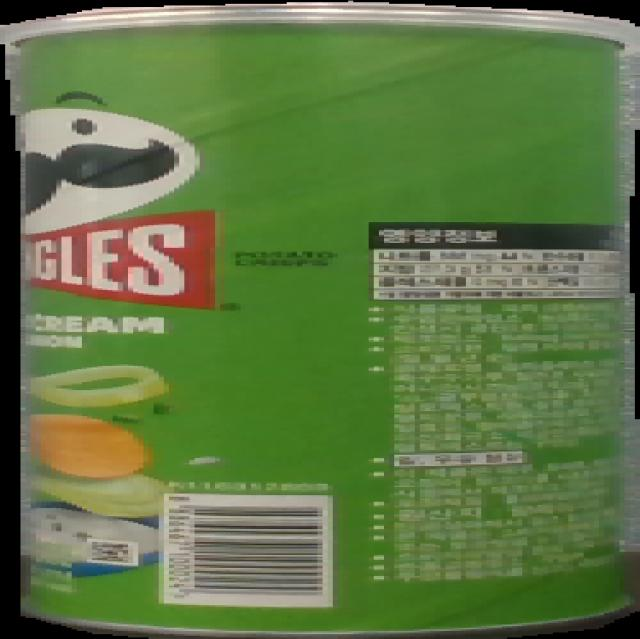pringles: (0, 1, 640, 639)
